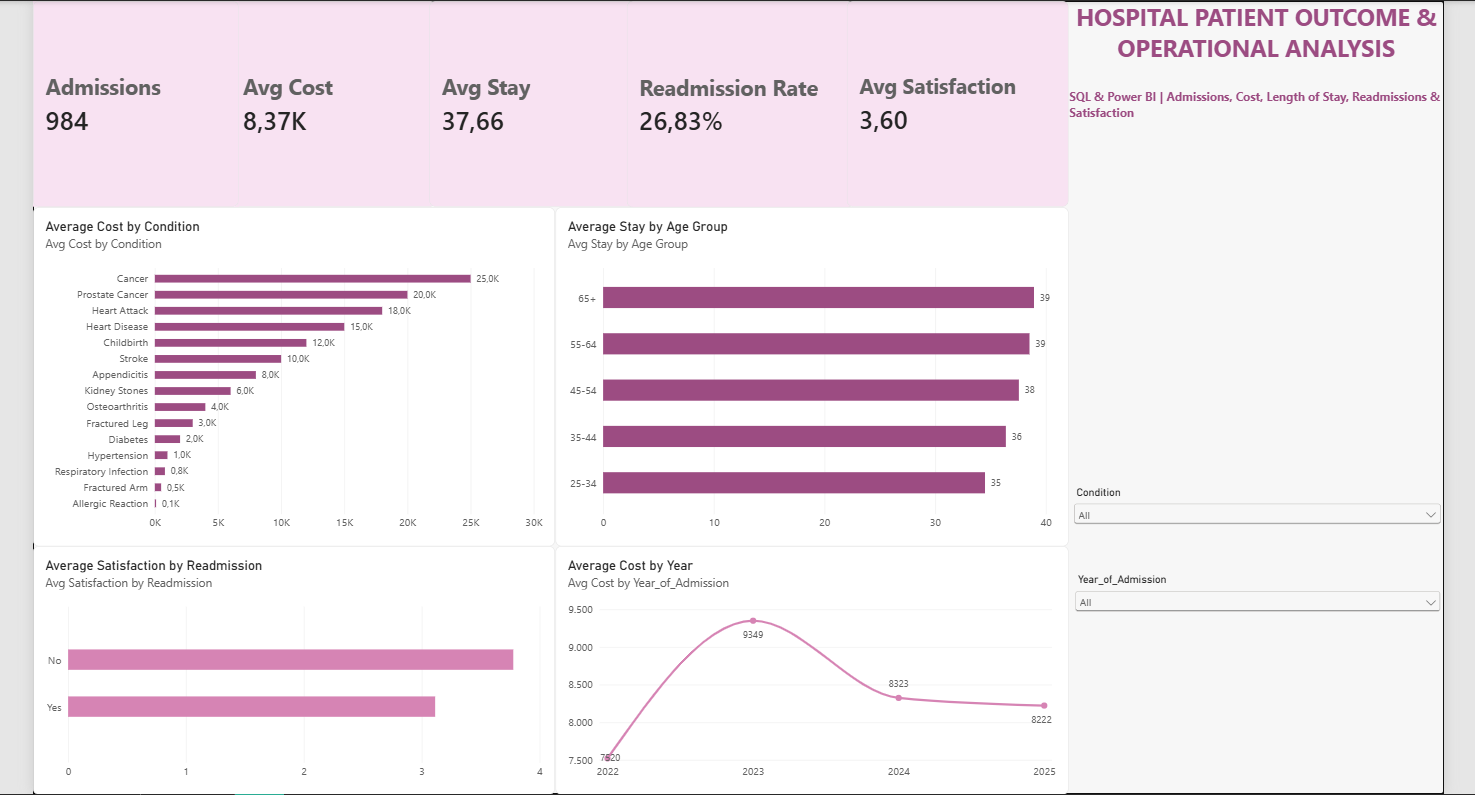

Layout of this report page (visuals, bound fields, positions):
{"tool":"powerbi","page":{"name":"Page 1","canvas":[1920,1080],"ordinal":0},"visuals":[{"type":"cardVisual","fields":{"Data":["Hospital Patient.Avg Cost"]},"box":[269.6,0,280,280],"z":1000},{"type":"cardVisual","fields":{"Data":["CountNonNull(Hospital Patient.Patient_ID)"]},"box":[0,0,280,280],"z":1500},{"type":"cardVisual","fields":{"Data":["Hospital Patient.Avg Stay"]},"box":[539.1,0,280,280],"z":2000},{"type":"cardVisual","fields":{"Data":["Hospital Patient.Readmission Rate"]},"box":[808.7,0,309.3,281.2],"z":3000},{"type":"cardVisual","fields":{"Data":["Hospital Patient.Avg Satisfaction"]},"box":[1107.6,0,302.8,280.7],"z":4000},{"type":"clusteredBarChart","title":"Average Cost by Condition","fields":{"Category":["Hospital Patient.Condition"],"Y":["Hospital Patient.Avg Cost"]},"box":[0,280,710.8,461.5],"z":5000},{"type":"clusteredBarChart","title":"Average Stay by Age Group","fields":{"Category":["Hospital Patient.Age Group"],"Y":["Hospital Patient.Avg Stay"]},"box":[710.8,280,698.5,461.5],"z":6000},{"type":"clusteredBarChart","title":"Average Satisfaction by Readmission","fields":{"Category":["Hospital Patient.Readmission"],"Y":["Hospital Patient.Avg Satisfaction"]},"box":[0,741.5,710.8,338.5],"z":7000},{"type":"lineChart","title":"Average Cost by Year","fields":{"Category":["Hospital Patient.Year_of_Admission"],"Y":["Hospital Patient.Avg Cost"]},"box":[710.8,741.5,698.5,338.5],"z":8000},{"type":"slicer","fields":{"Values":["Hospital Patient.Year_of_Admission"]},"box":[1413.8,779.2,507,168.4],"z":9000},{"type":"slicer","fields":{"Values":["Hospital Patient.Condition"]},"box":[1412.1,660.1,508.7,103.8],"z":10000},{"type":"textbox","box":[1410.4,0,508.7,119.1],"z":11000},{"type":"textbox","box":[1410.4,119.1,508.7,86.8],"z":12000}]}

Visuals, with their boxes on the page's 1920x1080 design canvas (x1, y1, x2, y2). These are canvas units, not pixel positions in the 1475x795 screenshot, which may show the page scaled, cropped or inside an application window:
cardVisual - Hospital Patient.Avg Cost: (x1=270, y1=0, x2=550, y2=280)
cardVisual - CountNonNull(Hospital Patient.Patient_ID): (x1=0, y1=0, x2=280, y2=280)
cardVisual - Hospital Patient.Avg Stay: (x1=539, y1=0, x2=819, y2=280)
cardVisual - Hospital Patient.Readmission Rate: (x1=809, y1=0, x2=1118, y2=281)
cardVisual - Hospital Patient.Avg Satisfaction: (x1=1108, y1=0, x2=1410, y2=281)
"Average Cost by Condition" clusteredBarChart: (x1=0, y1=280, x2=711, y2=742)
"Average Stay by Age Group" clusteredBarChart: (x1=711, y1=280, x2=1409, y2=742)
"Average Satisfaction by Readmission" clusteredBarChart: (x1=0, y1=742, x2=711, y2=1080)
"Average Cost by Year" lineChart: (x1=711, y1=742, x2=1409, y2=1080)
slicer - Hospital Patient.Year_of_Admission: (x1=1414, y1=779, x2=1921, y2=948)
slicer - Hospital Patient.Condition: (x1=1412, y1=660, x2=1921, y2=764)
textbox: (x1=1410, y1=0, x2=1919, y2=119)
textbox: (x1=1410, y1=119, x2=1919, y2=206)
